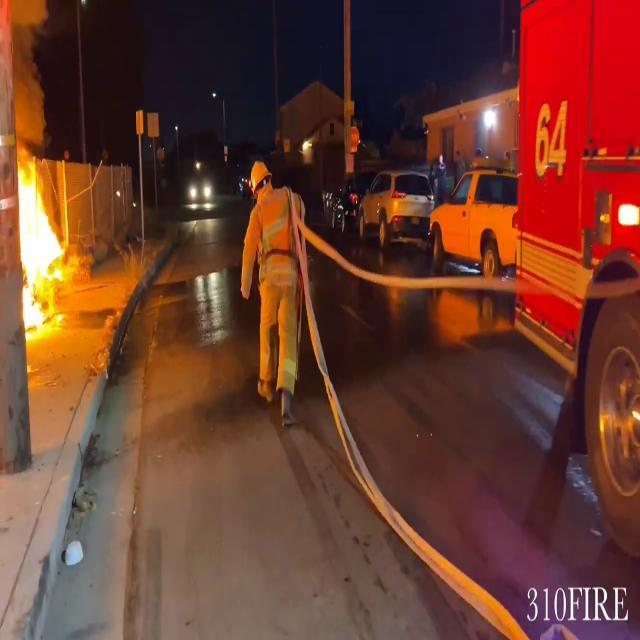Fire: (13, 160, 66, 332)
Smoke: (0, 1, 55, 166)
